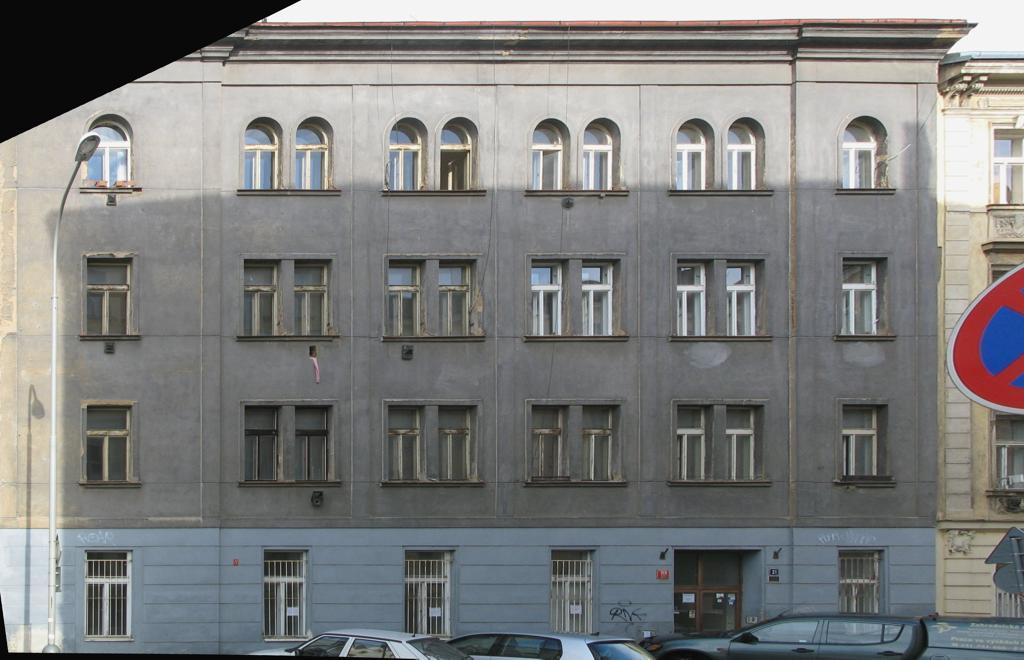window: (85, 552, 132, 639), (840, 548, 887, 635), (406, 551, 453, 638), (263, 551, 309, 638), (552, 550, 596, 637), (83, 112, 131, 190), (85, 257, 132, 335), (840, 258, 887, 336), (839, 115, 887, 189), (843, 402, 887, 480), (86, 405, 130, 482), (529, 259, 567, 337), (243, 259, 280, 337), (294, 259, 331, 337), (387, 260, 424, 338), (675, 259, 712, 337), (439, 259, 476, 336), (583, 258, 620, 335), (726, 261, 763, 338), (583, 119, 621, 193), (389, 405, 425, 482), (675, 404, 711, 481), (533, 118, 570, 192), (676, 119, 713, 193), (295, 405, 330, 483), (440, 406, 475, 484), (245, 117, 282, 190), (296, 117, 333, 190), (389, 118, 426, 191), (440, 118, 477, 191), (727, 117, 764, 190), (246, 405, 281, 482), (532, 403, 567, 480), (728, 404, 763, 481), (582, 405, 617, 481)
